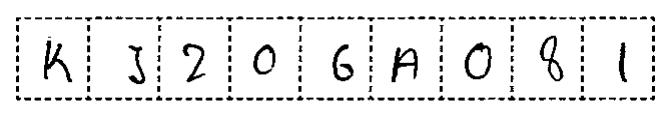0: (456, 37, 496, 86), (245, 41, 283, 81)
1: (601, 36, 641, 89)
2: (175, 38, 211, 88)
6: (325, 39, 360, 88)
8: (533, 29, 572, 87)
A: (386, 41, 426, 88)
J: (120, 40, 150, 87)
K: (32, 33, 81, 90)
